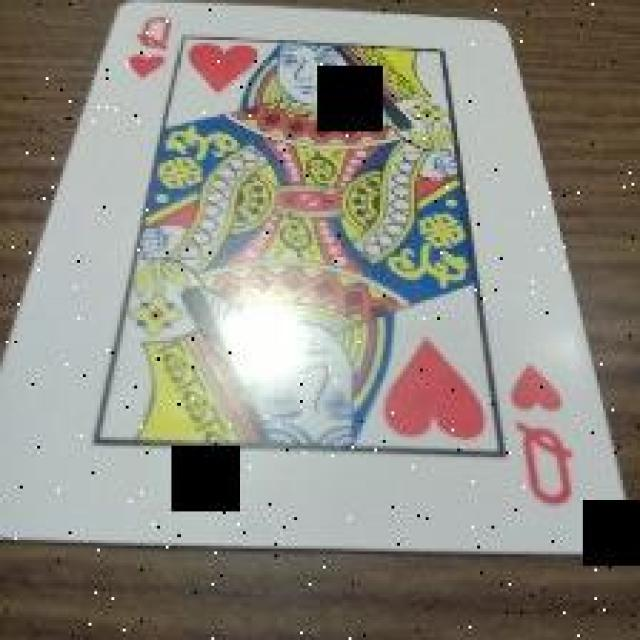Queen of hearts: (1, 5, 624, 554)
